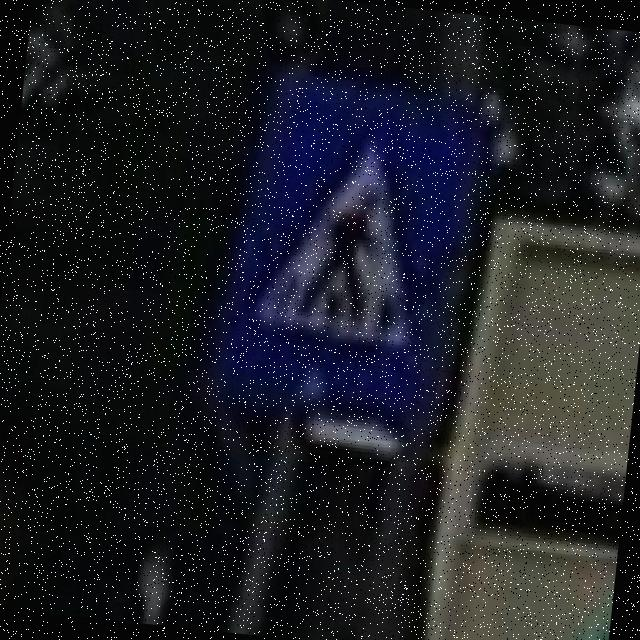Przejscie dla pieszych: (225, 99, 462, 420)
